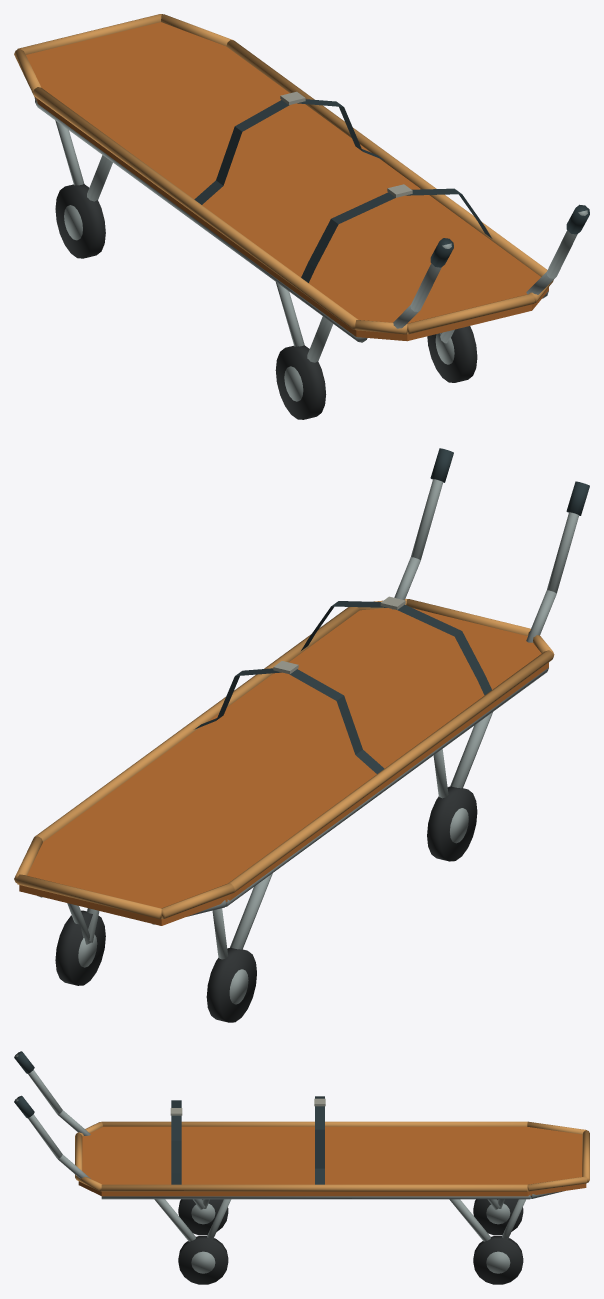
File: Patient-Litter-LOD1.glb
The picture shows the model from 3 angles, top to bottom: view 1: azimuth 30°, elevation 25°; view 2: azimuth 150°, elevation 25°; view 3: azimuth 270°, elevation 25°; orthographic projection. The views are drawn at different scales.
Parts seen in each view (by area): view 1: Patient-Litter; view 2: Patient-Litter; view 3: Patient-Litter.
Part boxes in pixels (x1,y1,x2,y2): Patient-Litter: [14, 14, 589, 419]; Patient-Litter: [14, 448, 589, 1022]; Patient-Litter: [14, 1051, 589, 1284].
Bounding box in the file's own units: 0.584 × 0.7561 × 2.15.
